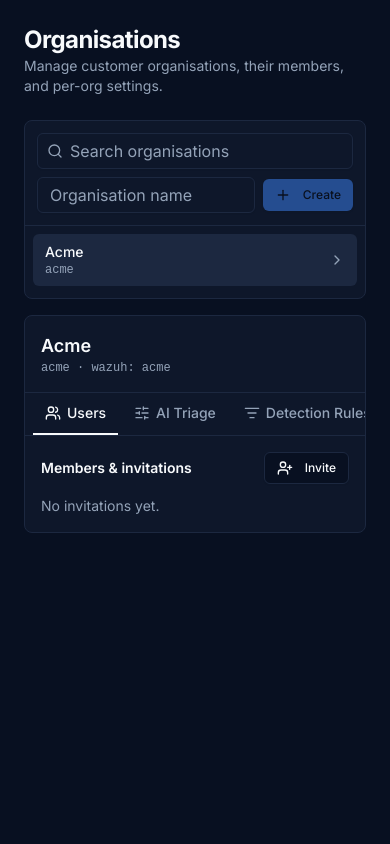
Test: OrgManagement › Users tab — invitations list › new invite appears in the list after creation
The image size is (390, 844).
Check: the text "No invitations yet." is shown, box [41, 497, 160, 514]
Step 1. Click the button with aria-label "invite user to acme" → (306, 468), box [264, 452, 349, 484]
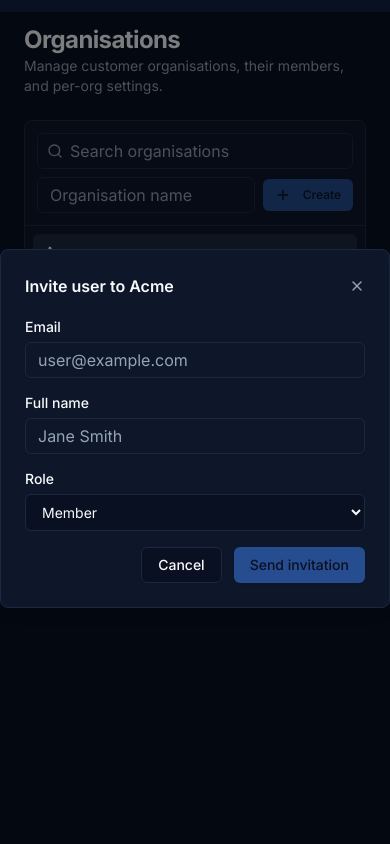
Step 2. Type "bob@example.com" into the field labelled "Email" → (195, 360), box [25, 342, 365, 378]
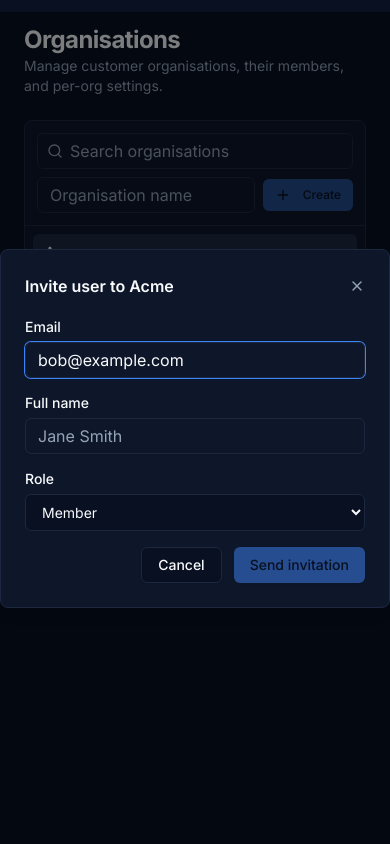
Step 3. Type "Bob" into the field labelled "Full name" → (195, 436), box [25, 418, 365, 454]
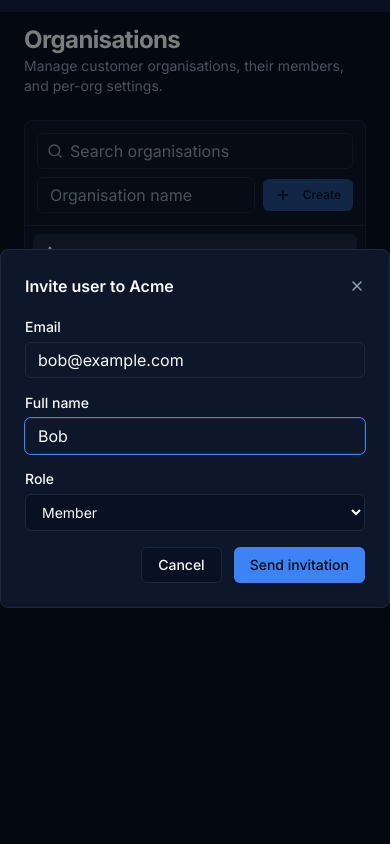
Step 4. Click the button "Send invitation" → (299, 564), box [234, 546, 365, 582]
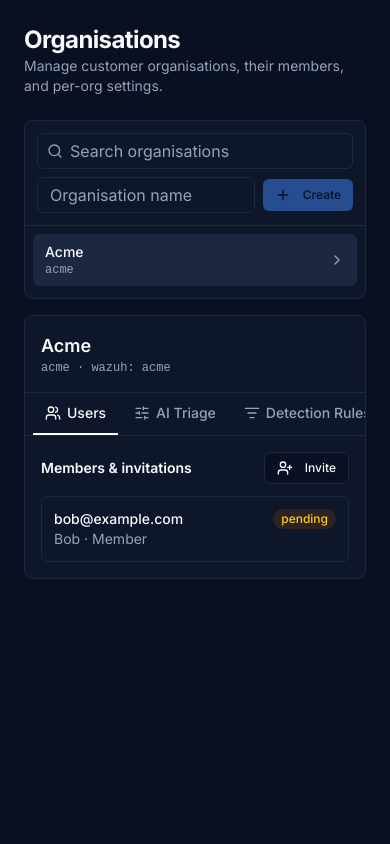
Check: the text "bob@example.com" is shown, box [54, 509, 183, 529]
